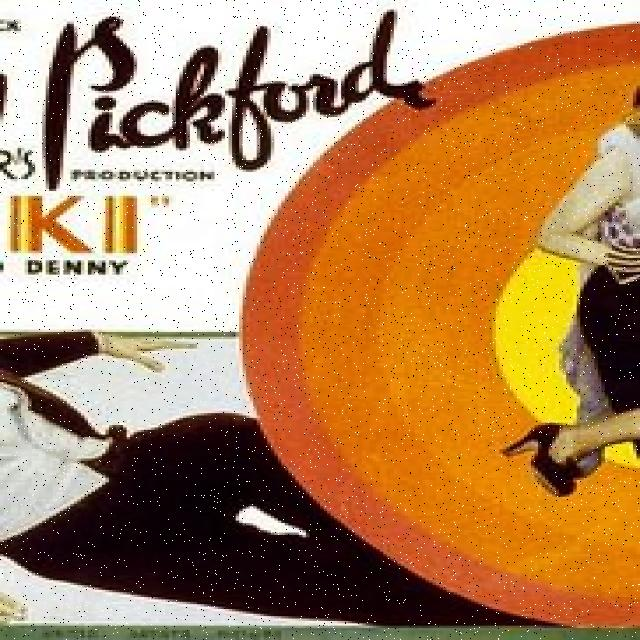movie-judul: (0, 4, 439, 193)
picture: (2, 328, 543, 640), (526, 85, 640, 497)
